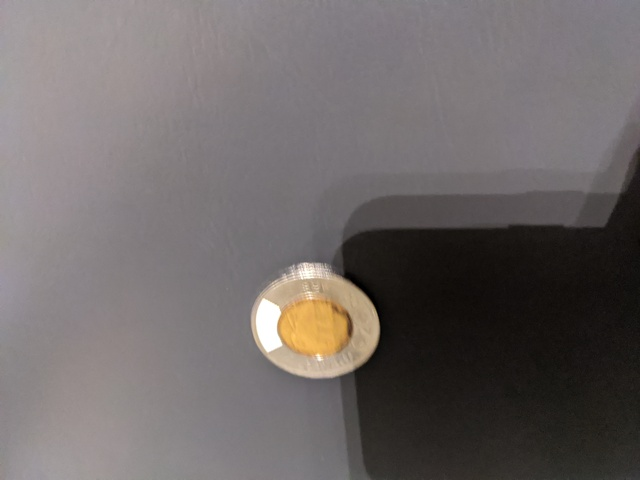twonie: (240, 253, 388, 384)
